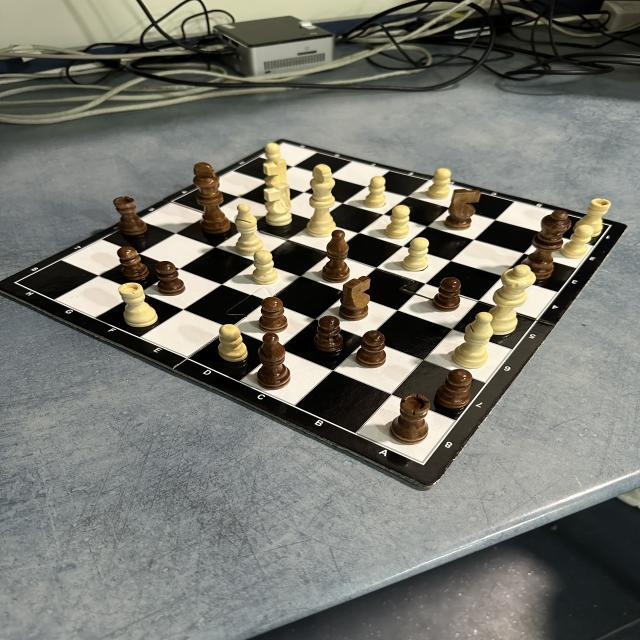Black-Bishop: (256, 333, 290, 388), (323, 229, 350, 282)
Black-King: (193, 162, 230, 232)
Black-Knight: (446, 188, 482, 230), (339, 275, 372, 320)
Black-Pawn: (436, 369, 472, 408), (356, 330, 386, 368), (118, 246, 150, 280), (432, 277, 462, 311), (259, 296, 287, 332), (315, 315, 342, 352), (158, 260, 185, 296)
Black-Queen: (522, 209, 570, 279)
Black-Rook: (391, 393, 430, 444), (114, 196, 146, 234)
White-Bishop: (454, 312, 494, 368), (235, 203, 263, 255)
White-King: (306, 164, 336, 237)
White-Knight: (264, 182, 292, 226), (264, 160, 288, 192)
White-Pawn: (219, 324, 248, 361), (562, 225, 594, 258), (402, 237, 429, 270), (253, 250, 277, 284), (386, 205, 410, 239), (428, 168, 451, 199), (365, 176, 386, 208), (264, 143, 280, 162)
White-Queen: (488, 264, 536, 336)
White-Rook: (117, 282, 158, 327), (573, 198, 611, 237)
